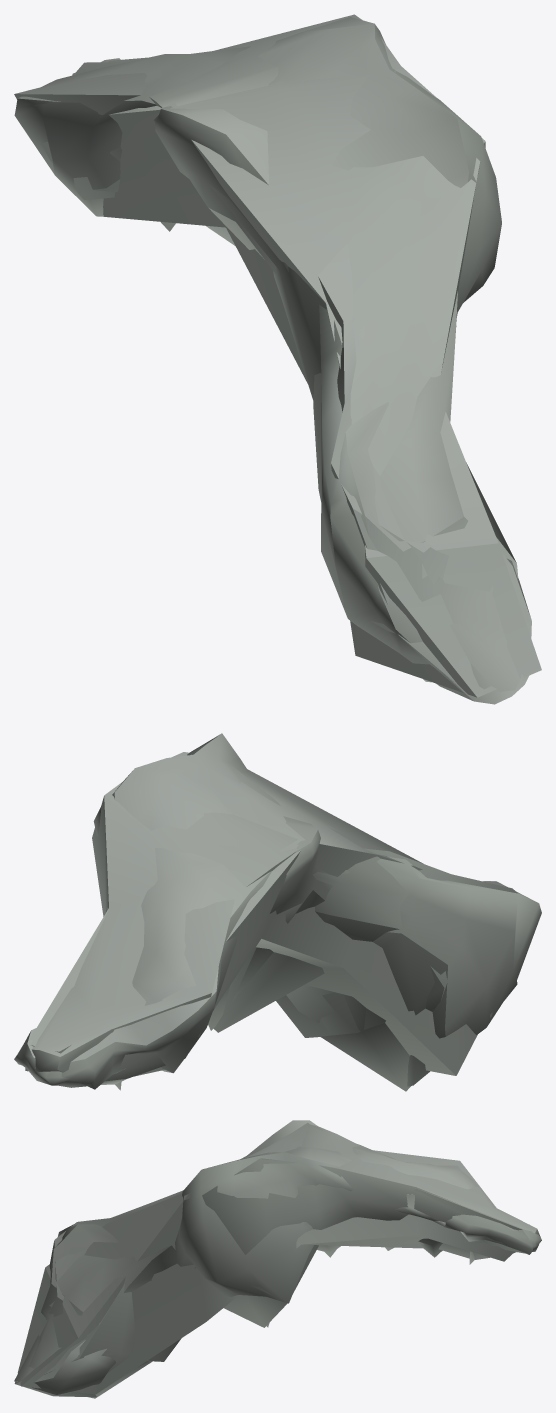
File: Env_stump02_LOD_Mesh.fbx
3 views of the same model, one above another, from view 1: azimuth 30°, elevation 25°; view 2: azimuth 150°, elevation 25°; view 3: azimuth 270°, elevation 25° (orthographic). The views are drawn at different scales.
Visible parts, largest first — view 1: Env_stump02_LOD3_Mesh, Env_stump02_LOD1_Mesh, Env_stump02_LOD2_Mesh; view 2: Env_stump02_LOD1_Mesh, Env_stump02_LOD2_Mesh, Env_stump02_LOD3_Mesh; view 3: Env_stump02_LOD1_Mesh, Env_stump02_LOD2_Mesh, Env_stump02_LOD3_Mesh.
Part boxes in pixels (x1,y1,x2,y2): Env_stump02_LOD3_Mesh: (72,57,541,697); Env_stump02_LOD1_Mesh: (14,17,531,704); Env_stump02_LOD2_Mesh: (14,14,520,691); Env_stump02_LOD1_Mesh: (14,733,541,1090); Env_stump02_LOD2_Mesh: (25,752,517,1091); Env_stump02_LOD3_Mesh: (29,754,477,1083); Env_stump02_LOD1_Mesh: (14,1120,541,1397); Env_stump02_LOD2_Mesh: (14,1125,541,1398); Env_stump02_LOD3_Mesh: (17,1122,532,1394).
Bounding box in the file's own units: 43.51 × 64.27 × 110.
